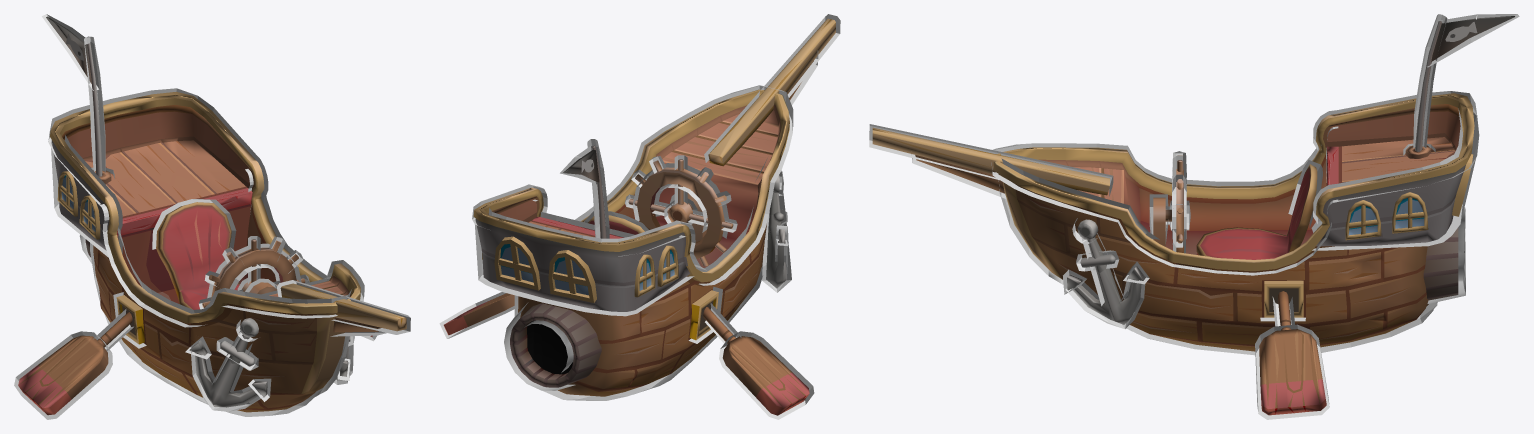
File: pickup_airplanePirate_outline_MESH.glb
The picture shows the model from 3 angles, left to right: view 1: azimuth 30°, elevation 25°; view 2: azimuth 150°, elevation 25°; view 3: azimuth 270°, elevation 25°; orthographic projection. The views are drawn at different scales.
Parts seen in each view (by area): view 1: AirplanePirate_outline; view 2: AirplanePirate_outline; view 3: AirplanePirate_outline.
Boxes of the visible parts, x1=… form: AirplanePirate_outline: x1=14, y1=14, x2=410, y2=419; AirplanePirate_outline: x1=439, y1=14, x2=840, y2=419; AirplanePirate_outline: x1=869, y1=14, x2=1519, y2=419.
Size of the model in its own units: 0.8031 by 0.6686 by 1.27.
